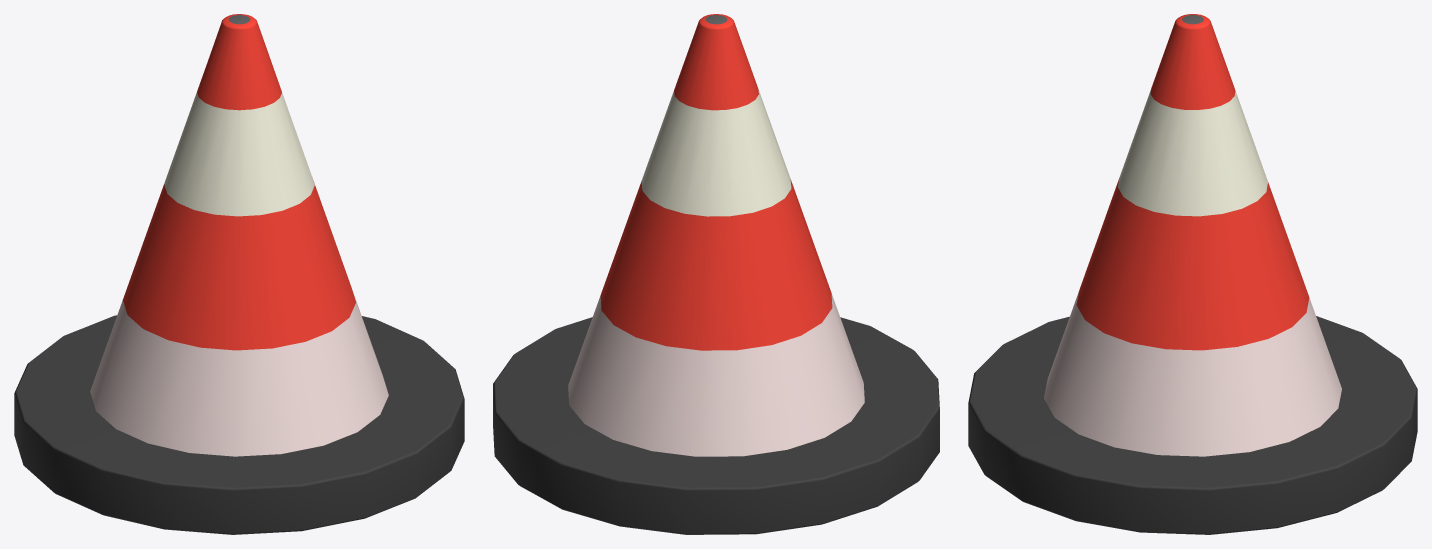
The model's file is City_6_Cone_1.glb.
The picture shows the model from 3 angles, left to right: view 1: azimuth 30°, elevation 25°; view 2: azimuth 150°, elevation 25°; view 3: azimuth 270°, elevation 25°; orthographic projection.
Parts seen in each view (by area): view 1: City_6_Cone_1; view 2: City_6_Cone_1; view 3: City_6_Cone_1.
Part boxes in pixels (box(x1,y1,x2,y2)): City_6_Cone_1: box(14, 14, 464, 534); City_6_Cone_1: box(493, 14, 939, 534); City_6_Cone_1: box(968, 14, 1417, 534).
Bounding box in the file's own units: 0.6495 × 0.6725 × 0.6495.
Materials: 1 (1 with a texture image).
